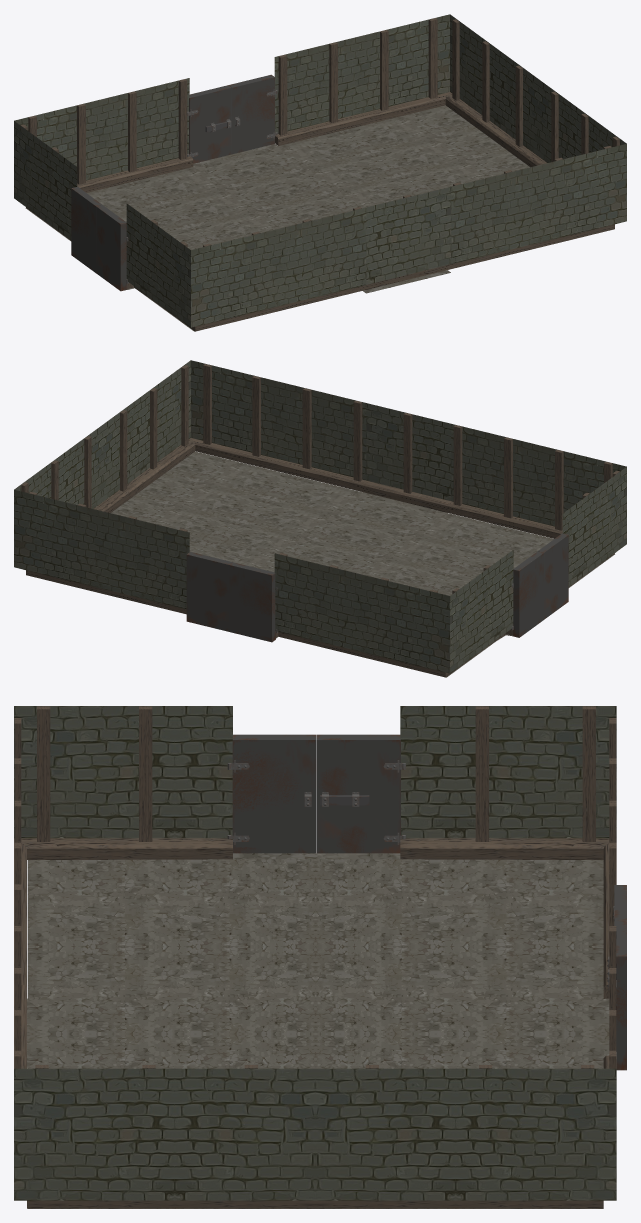
The model's file is hall_2.fbx.
3 views of the same model, one above another, from view 1: azimuth 30°, elevation 25°; view 2: azimuth 150°, elevation 25°; view 3: azimuth 270°, elevation 25° (orthographic). The views are drawn at different scales.
Parts seen in each view (by area): view 1: wall_3, floor5, pCube8 (×2), pCube1 (×2), wood_Pillar_10 (×2), wood_Pillar_5 (×2), wood_Pillar_7 (×2), wood_Pillar_6 (×2), wood_Pillar_15, wood_Pillar_14, wood_Pillar_13; view 2: wall_3, floor5, pCube1 (×2), pCube8 (×2), wood_Pillar_6 (×2), wood_Pillar_15 (×2), wood_Pillar_5 (×2), wood_Pillar_13 (×2), wood_Pillar_19, wood_Pillar_10, wood_Pillar_7, wood_Pillar_14; view 3: wall_3, floor5, pCube8 (×2), pCube1, wood_Pillar_7, wood_Pillar_10, wood_Pillar_15, wood_Pillar_13.
Part boxes in pixels (left/top/right/bottom): wall_3: left=14, top=14, right=626, bottom=331; floor5: left=25, top=105, right=529, bottom=331; pCube8 (×2): left=96, top=74, right=274, bottom=291; pCube1 (×2): left=71, top=85, right=232, bottom=272; wood_Pillar_10 (×2): left=428, top=18, right=459, bottom=100; wood_Pillar_5 (×2): left=329, top=42, right=522, bottom=146; wood_Pillar_7 (×2): left=380, top=30, right=489, bottom=122; wood_Pillar_6 (×2): left=278, top=54, right=558, bottom=161; wood_Pillar_15: left=178, top=79, right=187, bottom=159; wood_Pillar_14: left=77, top=103, right=85, bottom=184; wood_Pillar_13: left=128, top=91, right=136, bottom=172; wall_3: left=14, top=360, right=626, bottom=677; floor5: left=111, top=451, right=614, bottom=677; pCube1 (×2): left=229, top=551, right=543, bottom=642; pCube8 (×2): left=186, top=533, right=568, bottom=631; wood_Pillar_6 (×2): left=120, top=400, right=362, bottom=491; wood_Pillar_15 (×2): left=181, top=365, right=462, bottom=505; wood_Pillar_5 (×2): left=84, top=388, right=311, bottom=508; wood_Pillar_13 (×2): left=150, top=388, right=512, bottom=518; wood_Pillar_19: left=403, top=413, right=412, bottom=493; wood_Pillar_10: left=203, top=364, right=211, bottom=444; wood_Pillar_7: left=252, top=376, right=260, bottom=456; wood_Pillar_14: left=555, top=450, right=563, bottom=530; wall_3: left=14, top=706, right=616, bottom=1208; floor5: left=27, top=853, right=609, bottom=1208; pCube8 (×2): left=232, top=734, right=626, bottom=1070; pCube1: left=317, top=734, right=400, bottom=853; wood_Pillar_7: left=139, top=706, right=152, bottom=841; wood_Pillar_10: left=37, top=706, right=50, bottom=841; wood_Pillar_15: left=582, top=706, right=595, bottom=841; wood_Pillar_13: left=475, top=706, right=488, bottom=841.
Size of the model in its own units: 2044 by 386 by 1441.
